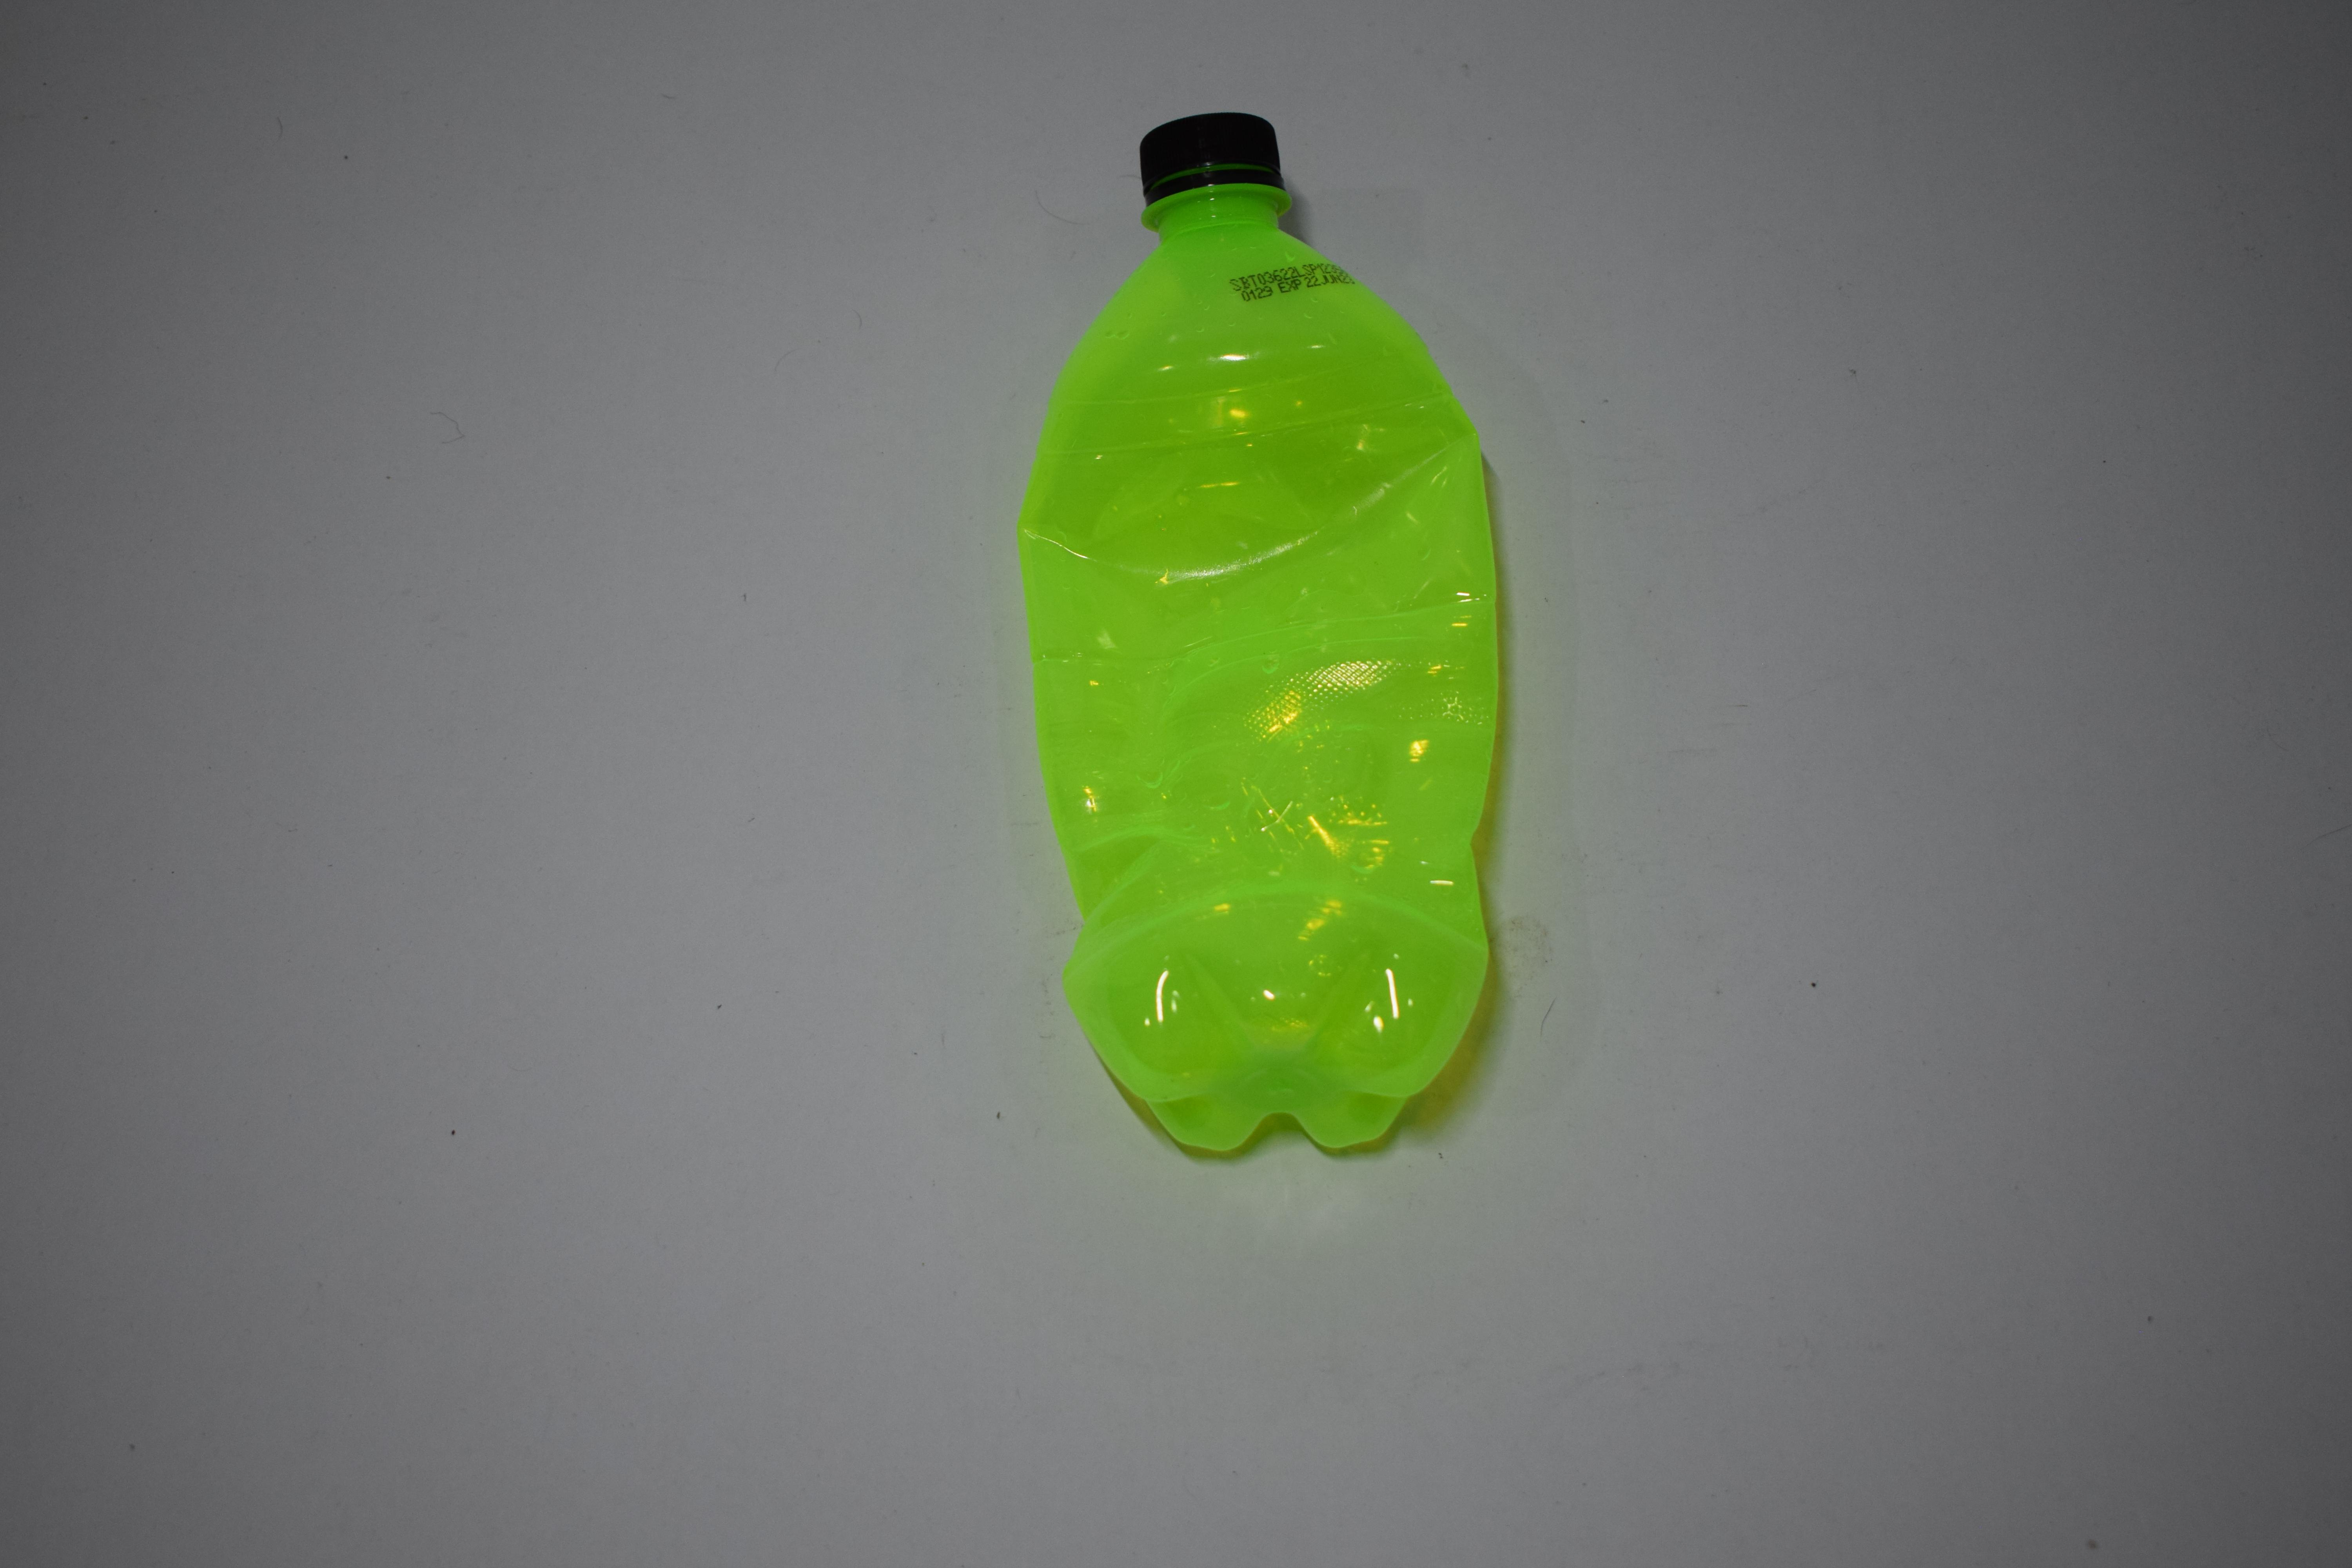bottle: (0, 102, 336, 1153)
